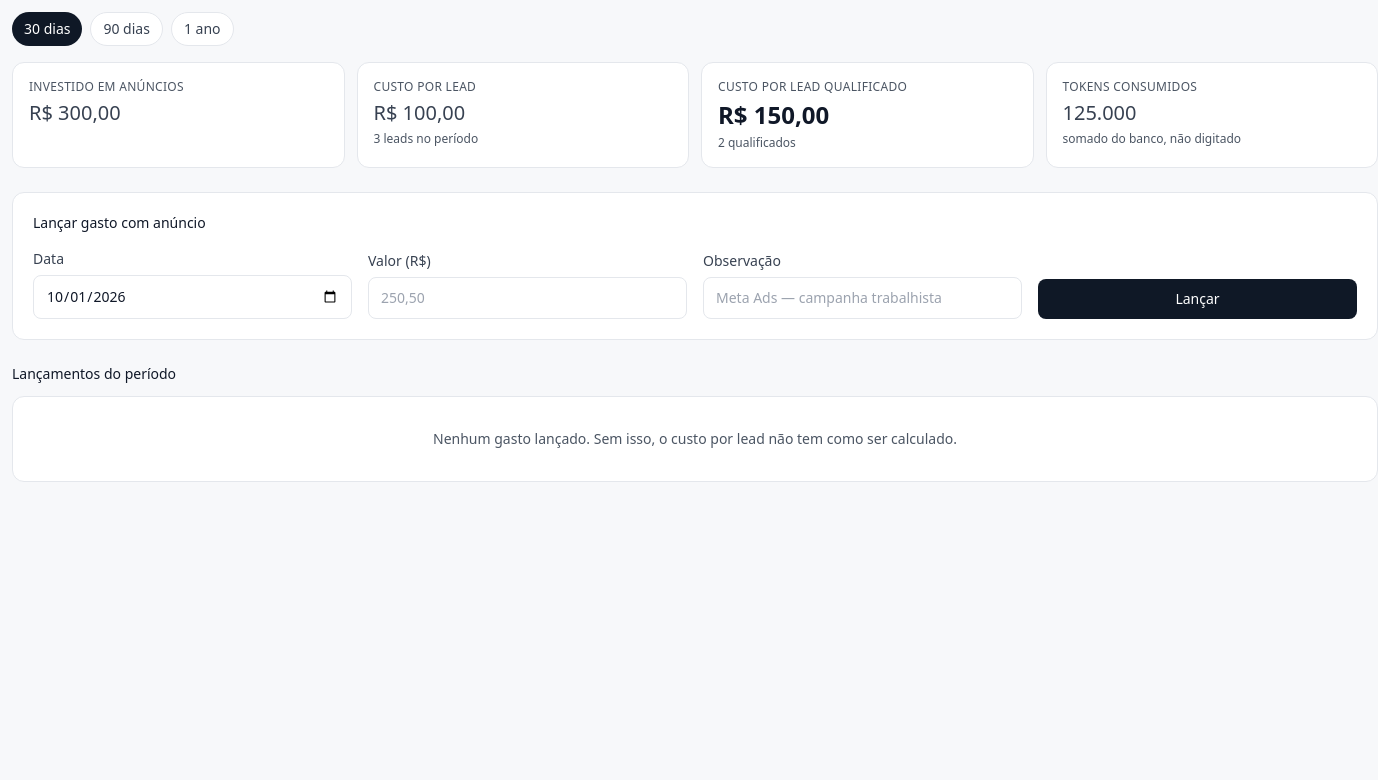
Scenario: custo de aquisição › valor inválido não vai ao servidor
Type "abc" into the field labelled "Valor (R$)". click: (528, 298)
box: [368,277,687,319]
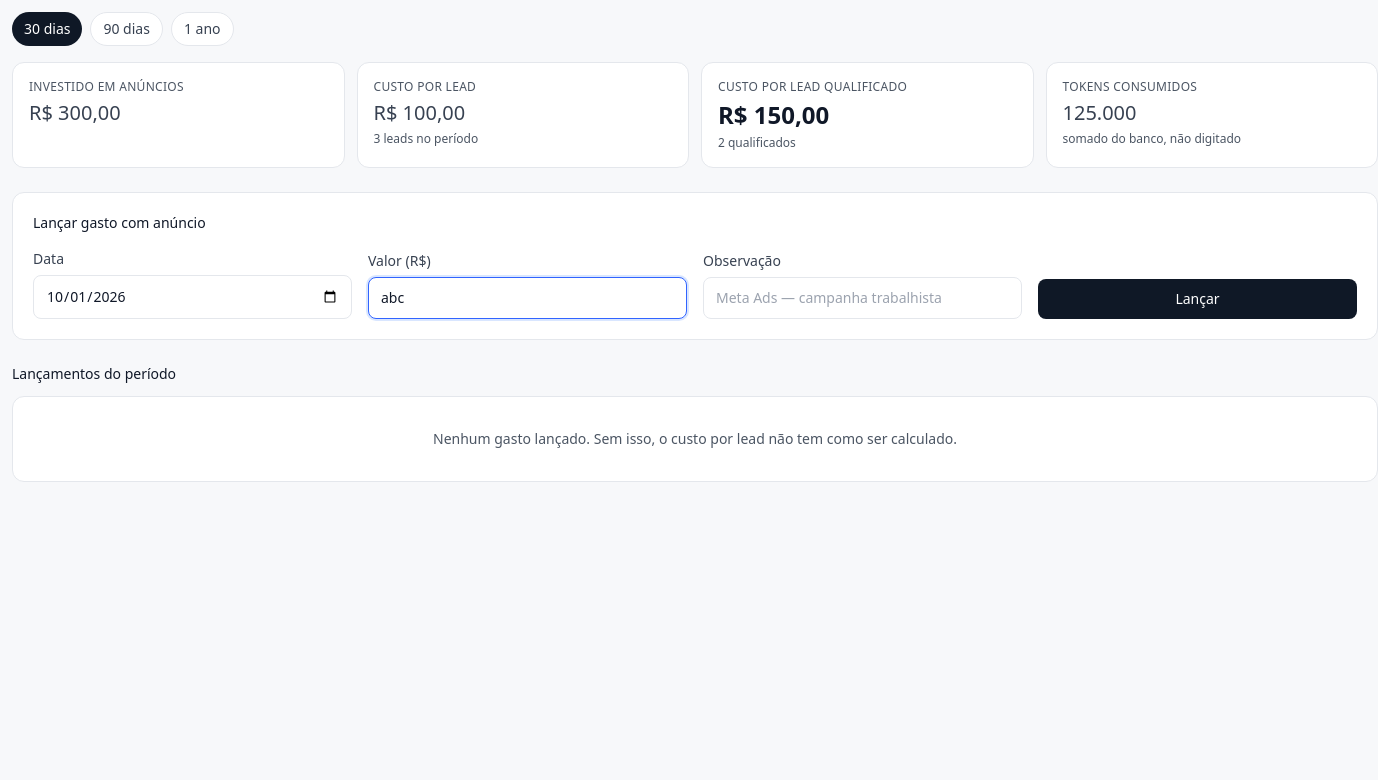
Click the button "Lançar". click: (1198, 299)
box: [1038,279,1357,319]
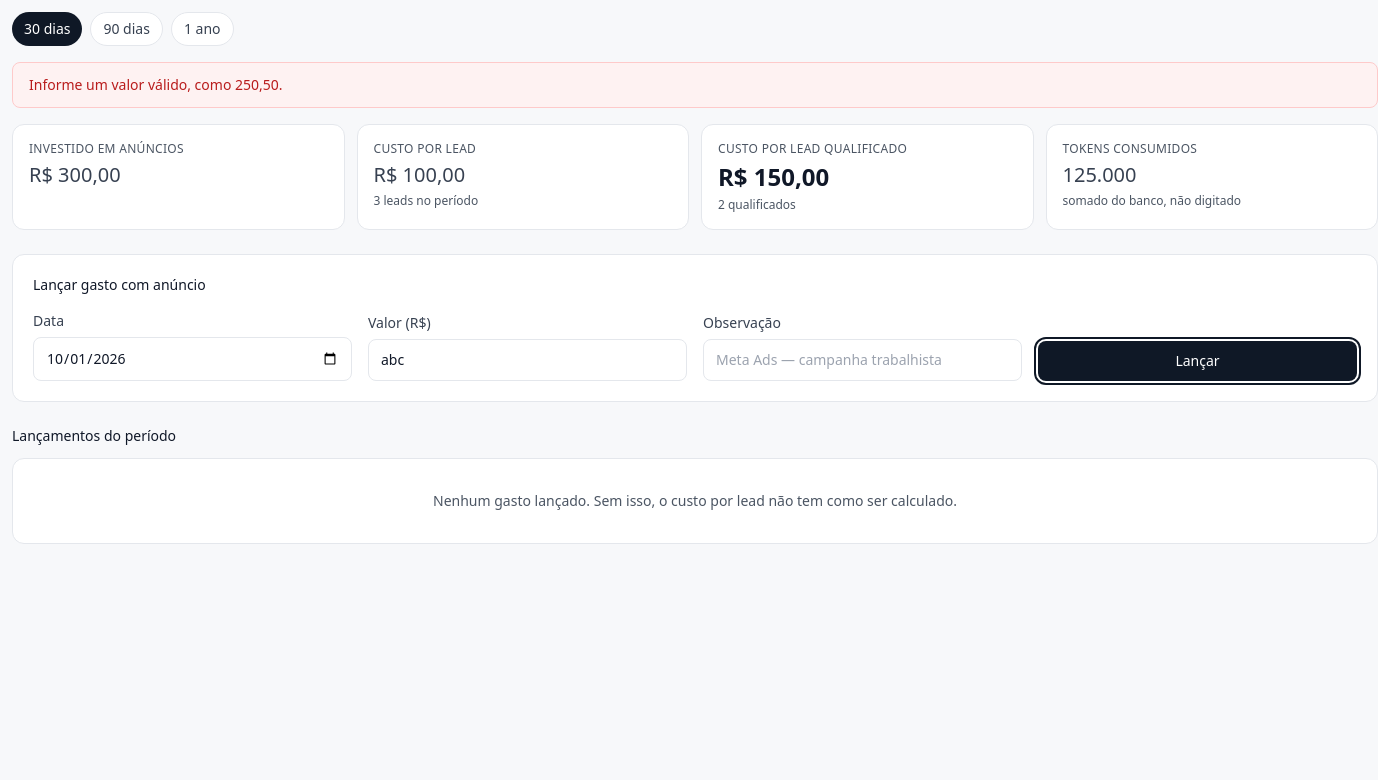
Now the message shows "valor válido", box [29,75,282,94]
